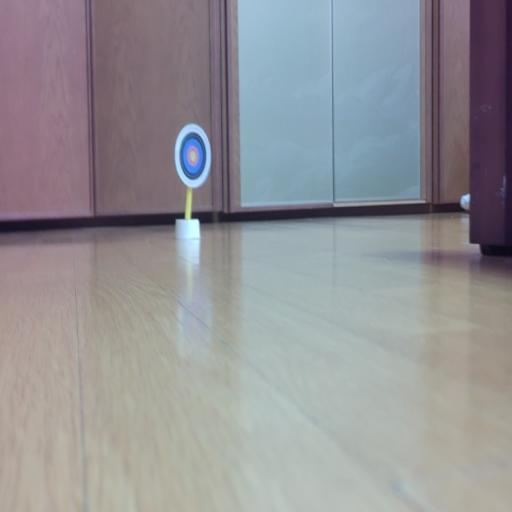target: (175, 124, 212, 188)
